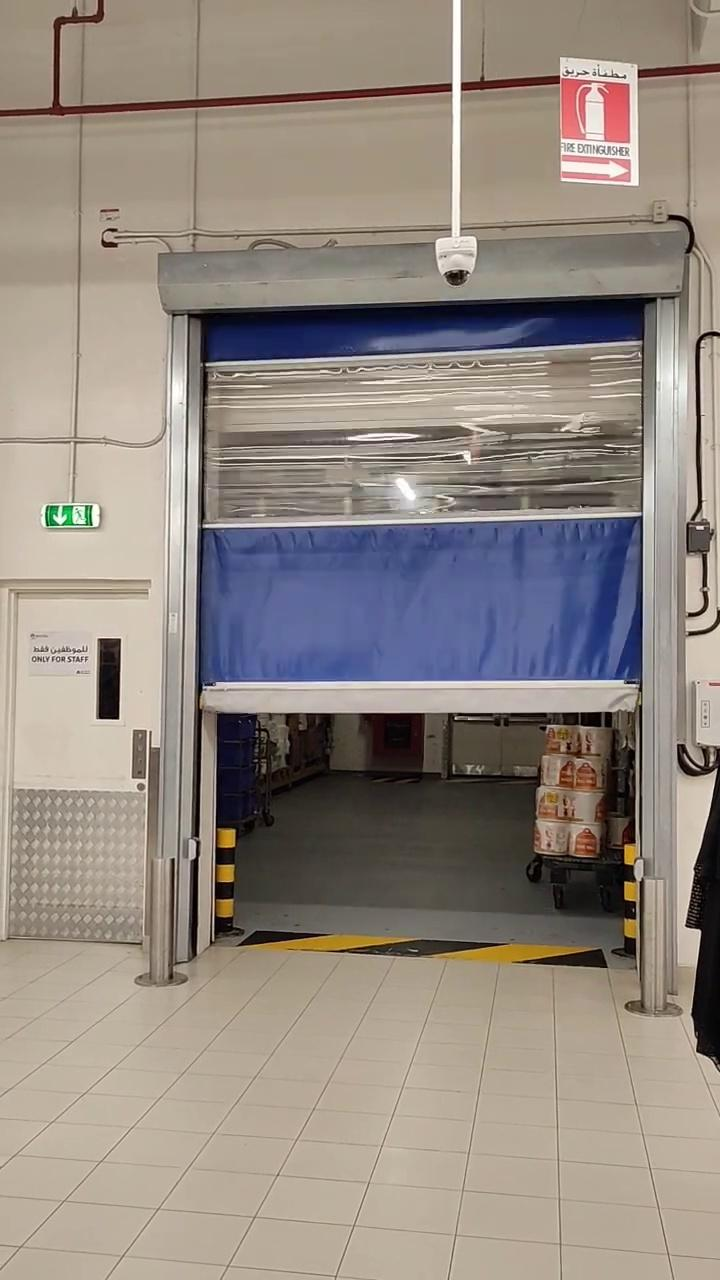Strip: (256, 916, 601, 975)
